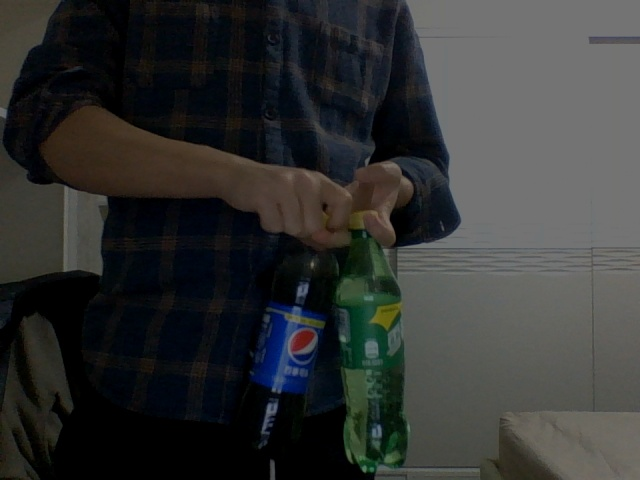Cola: (232, 210, 336, 453)
Sprite: (335, 211, 409, 475)
